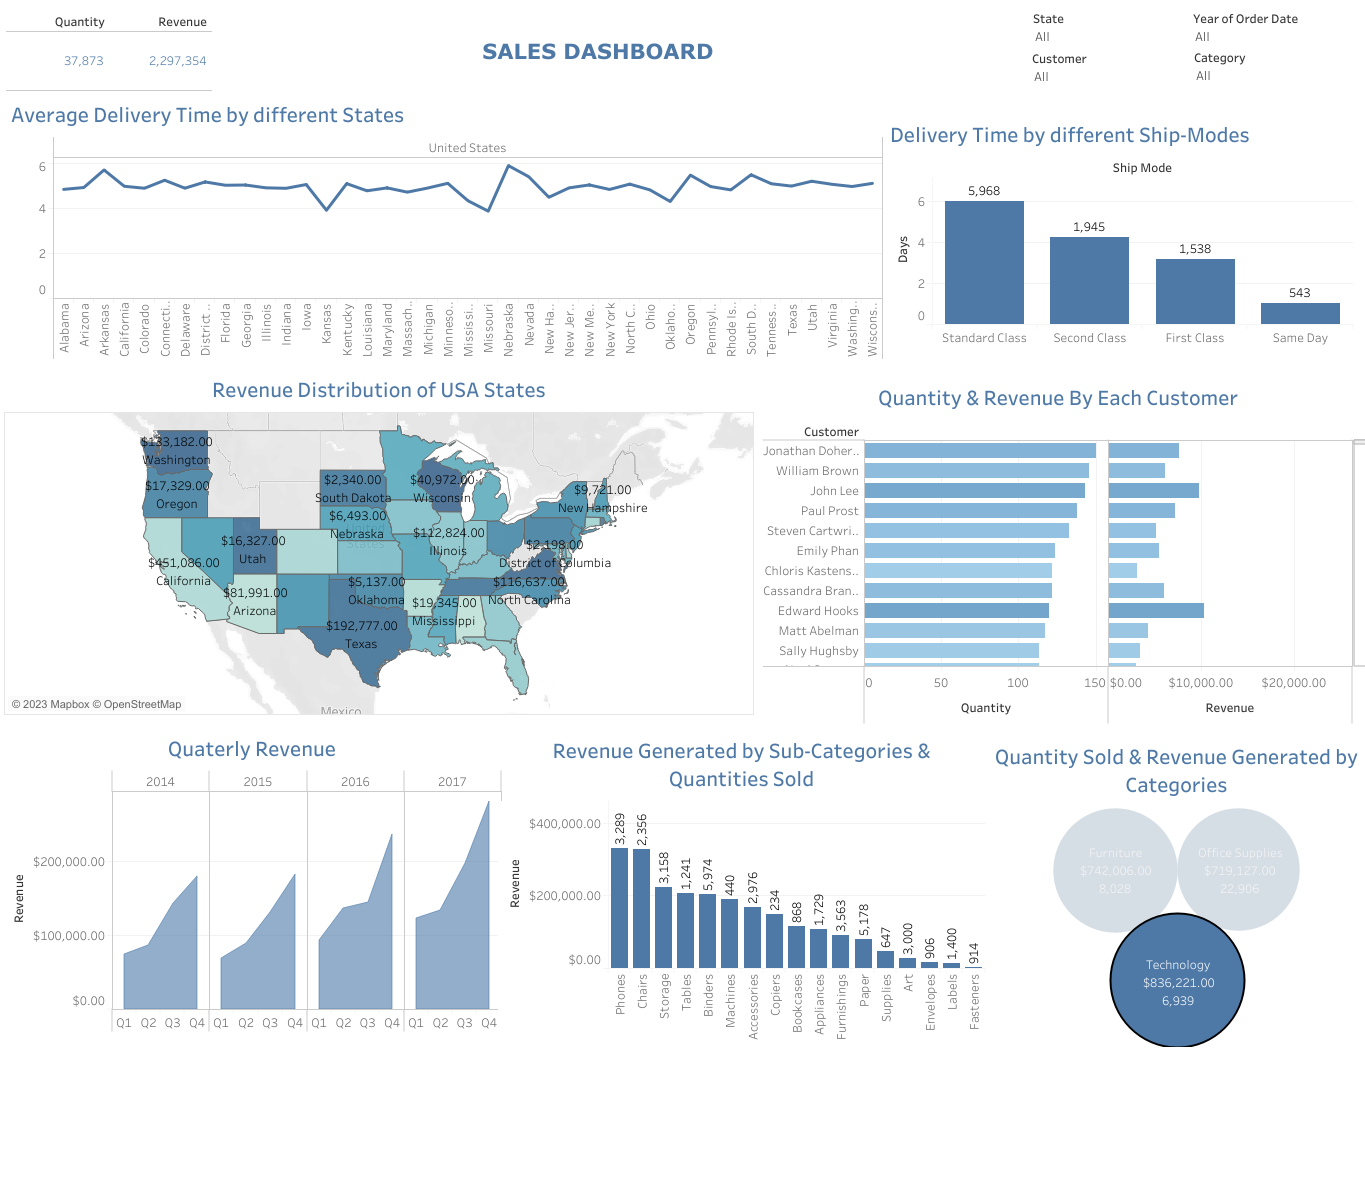

This screenshot's page, from the dashboard's own definition file:
{"tool":"tableau","page":{"name":"Dashboard 1","canvas":[1366,768],"ordinal":0},"visuals":[{"type":"image","param":"Image/sprocket_central_logo.png","box":[7,7,299,97]},{"type":"text","box":[327,14,809,85]},{"type":"image","param":"Image/ip.png","box":[5,112,503,272]},{"type":"image","param":"Image/AGE and wealth segment profit.png","box":[511,113,507,271]},{"type":"image","param":"Image/state profit.png","box":[1023,113,342,250]},{"type":"worksheet","title":"Sheet 1","mark":"Automatic","rows":["Full name","gender","job_industry_category","owns_car","wealth_segment","state"],"cols":["Age"],"box":[6,391,1007,314]},{"type":"filter","title":"Sheet 1","param":"[federated.0nnlna50m2p64q14wcr5211m1nqn].[none:Full name:nk]","box":[1021,619,160,48]},{"type":"filter","title":"Sheet 1","param":"[federated.0nnlna50m2p64q14wcr5211m1nqn].[none:owns_car:nk]","box":[1195,620,160,48]},{"type":"filter","title":"Sheet 1","param":"[federated.0nnlna50m2p64q14wcr5211m1nqn].[none:gender:nk]","box":[1020,674,160,48]},{"type":"filter","title":"Sheet 1","param":"[federated.0nnlna50m2p64q14wcr5211m1nqn].[none:job_industry_category:nk]","box":[1197,674,160,48]}]}

Visuals, with their boxes on the page's 1366x768 design canvas (x1, y1, x2, y2). These are canvas units, not pixel positions in the 1365x1199 screenshot, which may show the page scaled, cropped or inside an application window:
image: (left=7, top=7, right=306, bottom=104)
text: (left=327, top=14, right=1136, bottom=99)
image: (left=5, top=112, right=508, bottom=384)
image: (left=511, top=113, right=1018, bottom=384)
image: (left=1023, top=113, right=1365, bottom=363)
"Sheet 1" worksheet: (left=6, top=391, right=1013, bottom=705)
"Sheet 1" filter: (left=1021, top=619, right=1181, bottom=667)
"Sheet 1" filter: (left=1195, top=620, right=1355, bottom=668)
"Sheet 1" filter: (left=1020, top=674, right=1180, bottom=722)
"Sheet 1" filter: (left=1197, top=674, right=1357, bottom=722)
